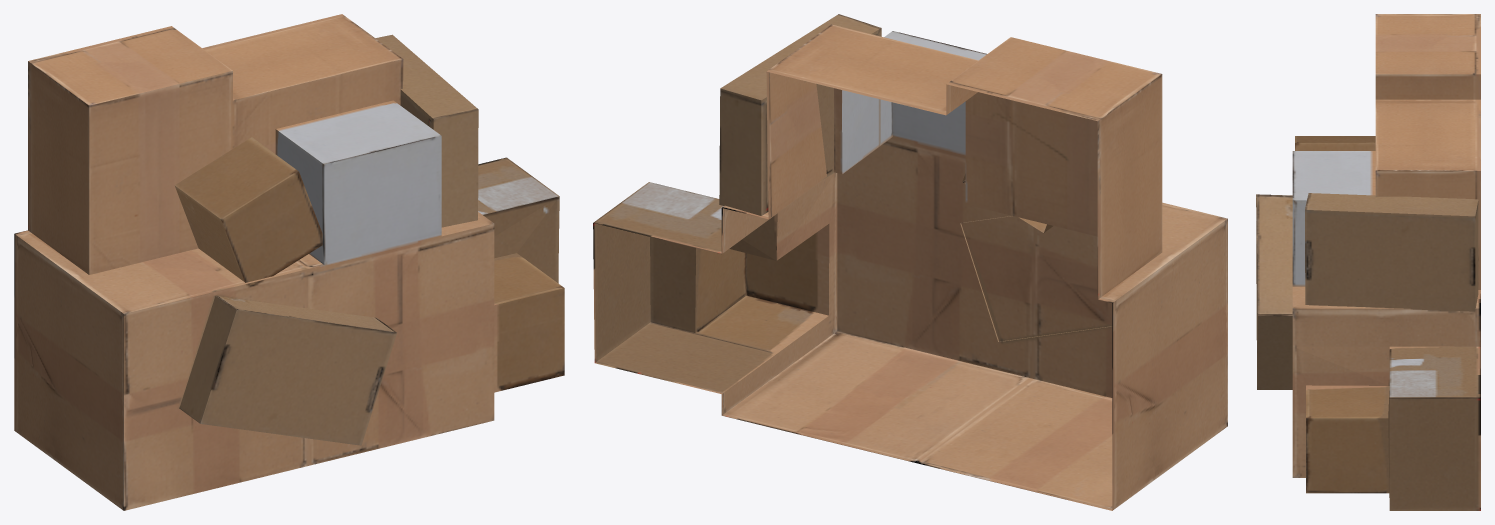
The model's file is cardboard-box-set--low-poly-5d3d50.glb.
The picture shows the model from 3 angles, left to right: view 1: azimuth 30°, elevation 25°; view 2: azimuth 150°, elevation 25°; view 3: azimuth 270°, elevation 25°; orthographic projection. The views are drawn at different scales.
Parts seen in each view (by area): view 1: PropMesh; view 2: PropMesh; view 3: PropMesh.
Part boxes in pixels (x1,y1,x2,y2): PropMesh: [14, 14, 564, 510]; PropMesh: [593, 14, 1227, 510]; PropMesh: [1256, 14, 1480, 510].
Bounding box in the file's own units: 1.54 × 1.1 × 0.7103.
1 material, 1 textured.
